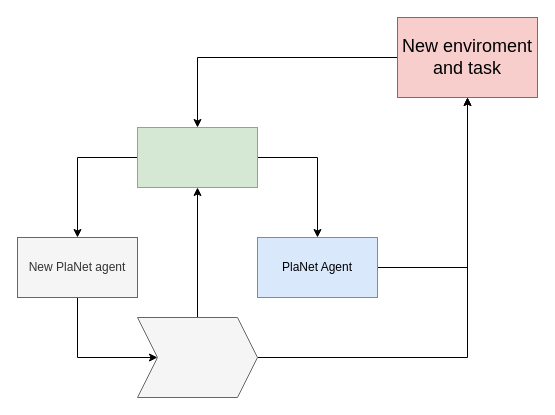
Image size: 555x415. Some labels were removed from this diagram. The centre of each missing label's shape, as x and y in pixels:
PINE: (x=197, y=157)
Train: (x=197, y=357)
